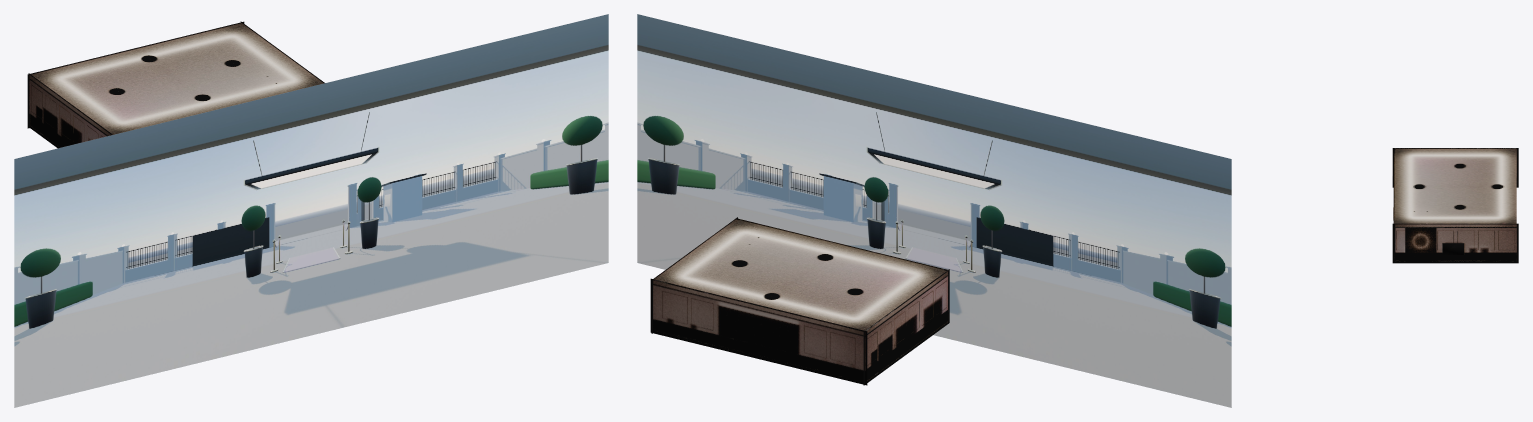
Rendered from int_glow_luxe.glb.
3 renders of one model, left to right at view 1: azimuth 30°, elevation 25°; view 2: azimuth 150°, elevation 25°; view 3: azimuth 270°, elevation 25°, orthographic. The views are drawn at different scales.
Visible parts, largest first — view 1: VIEW_front, ROOM; view 2: VIEW_front, ROOM; view 3: ROOM.
Boxes of the visible parts, x1,y1,x2,y2 form: VIEW_front: [14, 14, 608, 407]; ROOM: [27, 21, 324, 148]; VIEW_front: [637, 14, 1231, 407]; ROOM: [650, 217, 949, 385]; ROOM: [1392, 148, 1518, 263].
Bounding box in the file's own units: 61.71 × 24.68 × 31.8.
3 materials, 2 textured.
